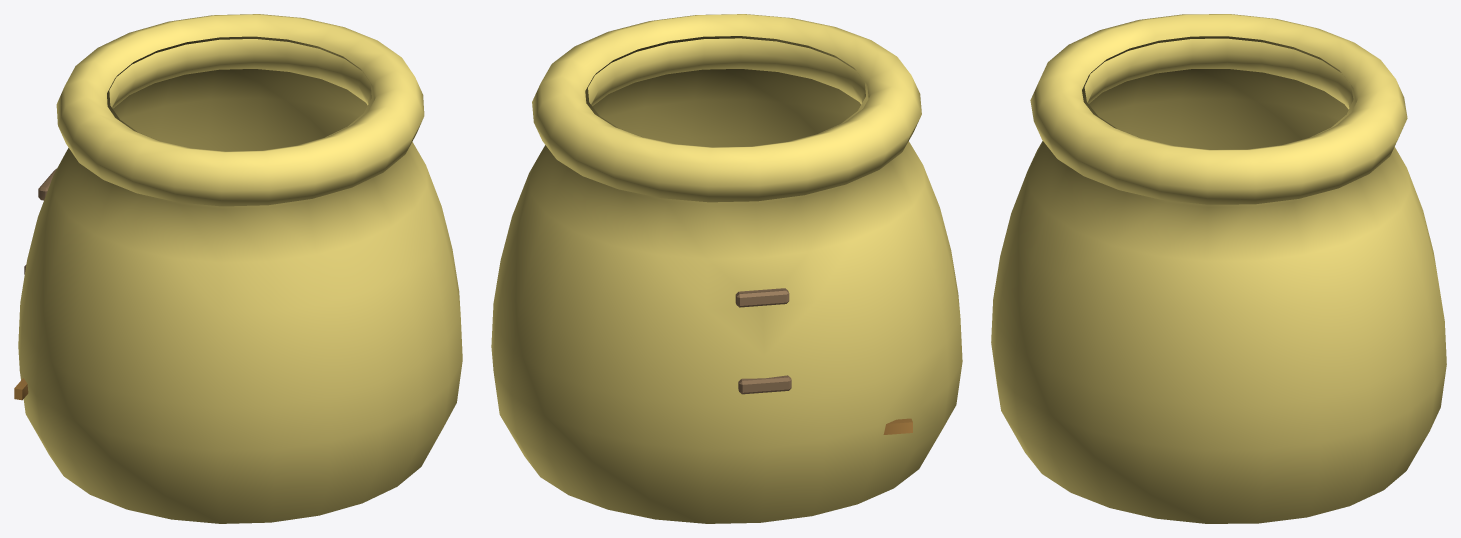
The model's file is rain_chest.fbx.
3 views of the same model, side by side, from view 1: azimuth 30°, elevation 25°; view 2: azimuth 150°, elevation 25°; view 3: azimuth 270°, elevation 25° (orthographic).
Parts seen in each view (by area): view 1: rain_chest; view 2: rain_chest; view 3: rain_chest.
Boxes of the visible parts, bbox=[...] form: rain_chest: bbox=[14, 14, 462, 523]; rain_chest: bbox=[491, 14, 962, 523]; rain_chest: bbox=[991, 14, 1446, 523].
Size of the model in its own units: 1.59 by 1.34 by 1.55.
